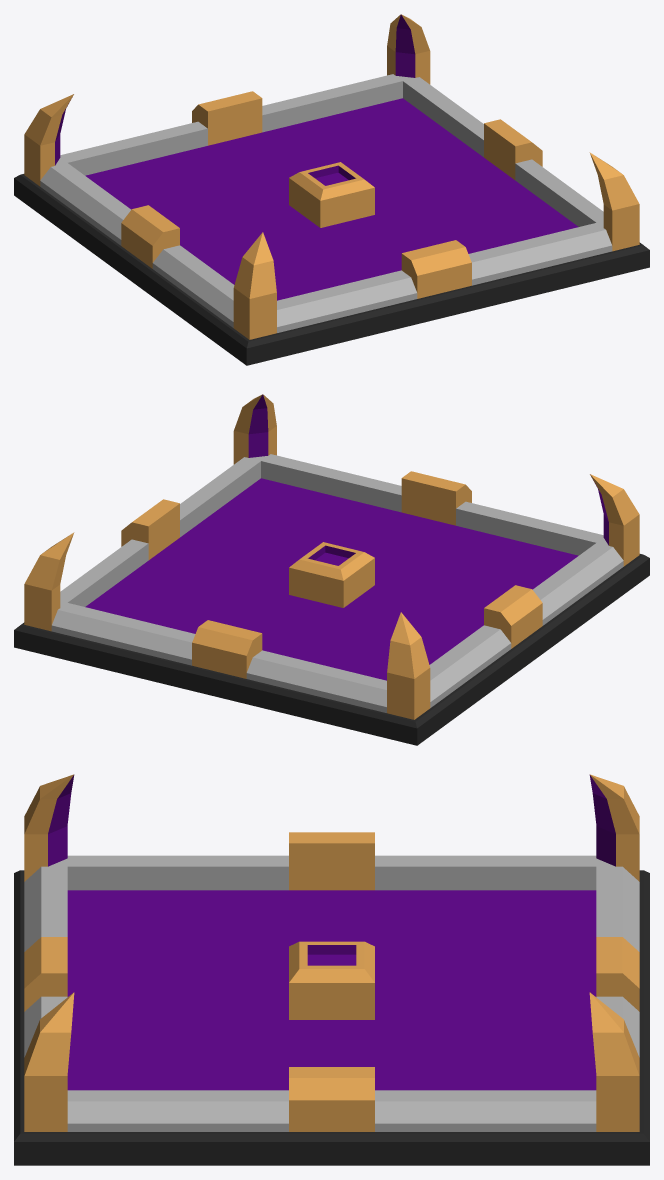
The model's file is OreDelivery.fbx.
The picture shows the model from 3 angles, top to bottom: view 1: azimuth 30°, elevation 25°; view 2: azimuth 150°, elevation 25°; view 3: azimuth 270°, elevation 25°; orthographic projection. The views are drawn at different scales.
Parts seen in each view (by area): view 1: OreDelivery; view 2: OreDelivery; view 3: OreDelivery.
Part boxes in pixels (<box>): OreDelivery: <box>14,14,649,365</box>; OreDelivery: <box>14,394,649,745</box>; OreDelivery: <box>14,774,649,1165</box>.
Size of the model in its own units: 346 by 88.87 by 346.
